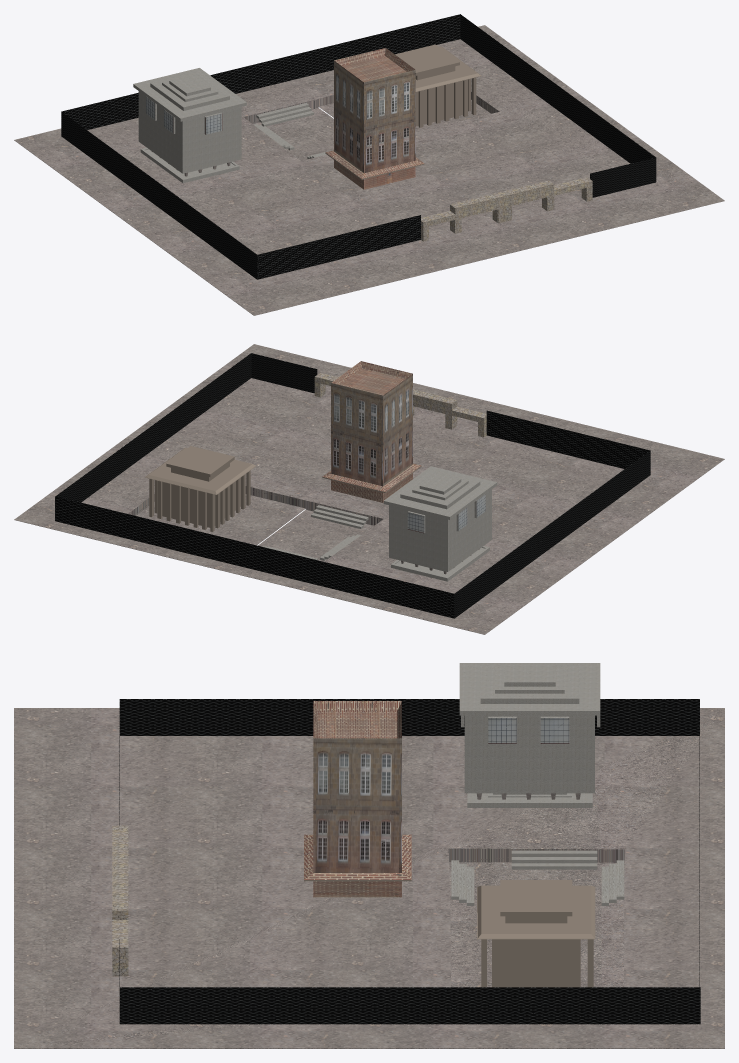
File: casita1.fbx
3 renders of one model, top to bottom at view 1: azimuth 30°, elevation 25°; view 2: azimuth 150°, elevation 25°; view 3: azimuth 270°, elevation 25°, orthographic. The views are drawn at different scales.
Visible parts, largest first — view 1: Cube, Cube.002; view 2: Cube, Cube.001; view 3: Cube, Cube.003, Cube.002, Cube.001.
Boxes of the visible parts, x1,y1,x2,y2 form: Cube: (14,14,724,315); Cube.002: (256,103,314,126); Cube: (14,344,724,634); Cube.001: (311,505,368,528); Cube: (14,663,724,1048); Cube.003: (511,850,597,869); Cube.002: (601,860,624,905); Cube.001: (451,860,474,905).
Bounding box in the file's own units: 1818 × 432 × 1605.
Materials: 11 (11 with a texture image).
